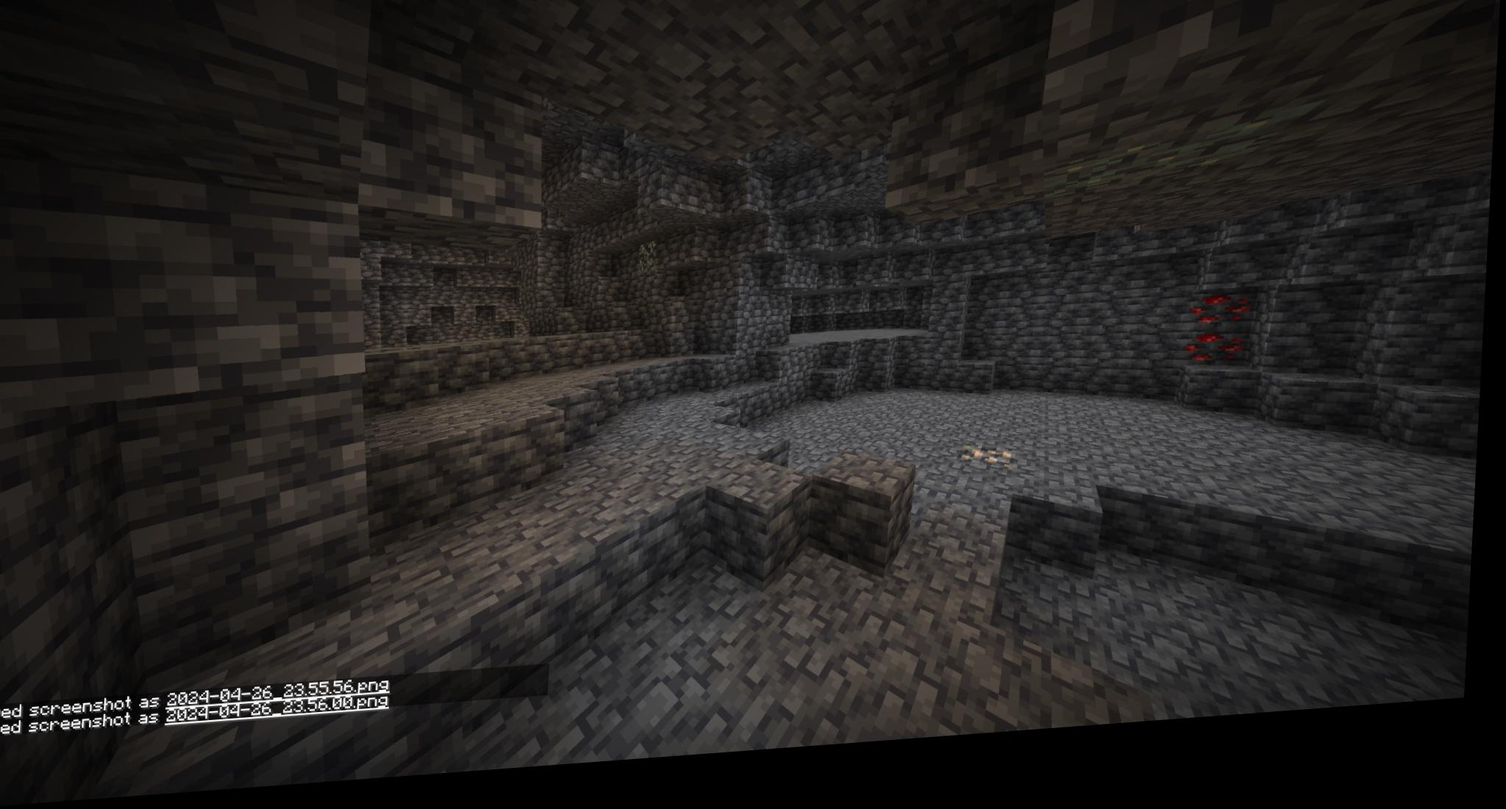iron ore: (964, 451, 1025, 496)
redstone ore: (1182, 302, 1263, 401)
